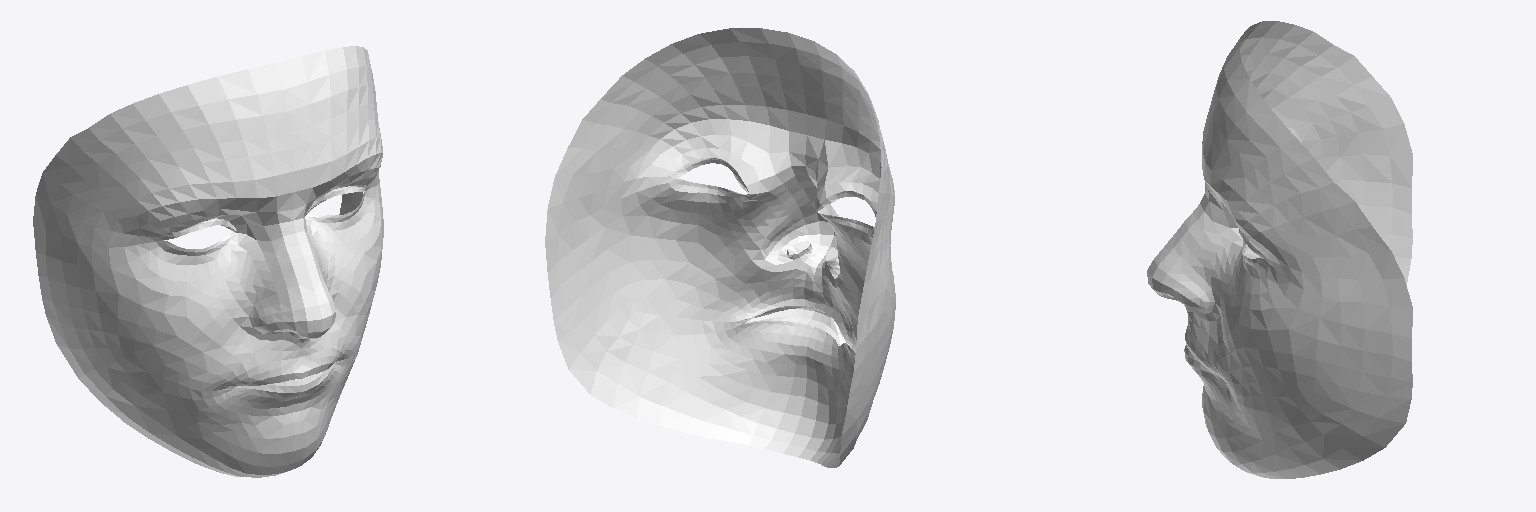
The model's file is mouthShrugLower.obj.
The picture shows the model from 3 angles: view 1: azimuth 30°, elevation 25°; view 2: azimuth 150°, elevation 25°; view 3: azimuth 270°, elevation 25°; orthographic projection.
Parts seen in each view (by area): view 1: default; view 2: default; view 3: default.
Boxes of the visible parts, x1,y1,x2,y2 form: default: [33, 46, 383, 477]; default: [545, 28, 895, 467]; default: [1147, 21, 1412, 478].
Bounding box in the file's own units: 0.1447 × 0.1823 × 0.1055.